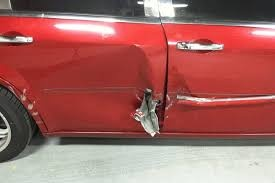Dent: (131, 80, 185, 138)
Scratch: (17, 87, 49, 125)
